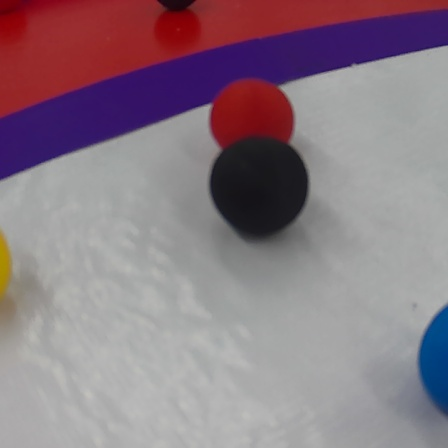black: (207, 138, 310, 240)
red: (204, 71, 296, 156)
red_aim: (4, 0, 448, 186)
